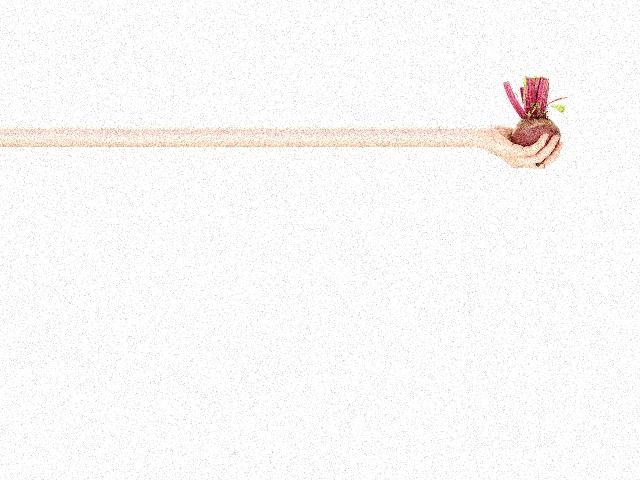beet: (503, 76, 567, 167)
